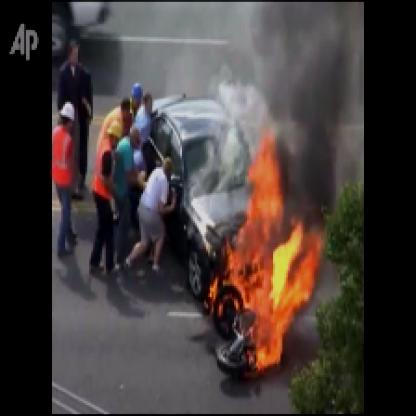Fire: (206, 130, 327, 381)
Smoke: (247, 2, 360, 217)
